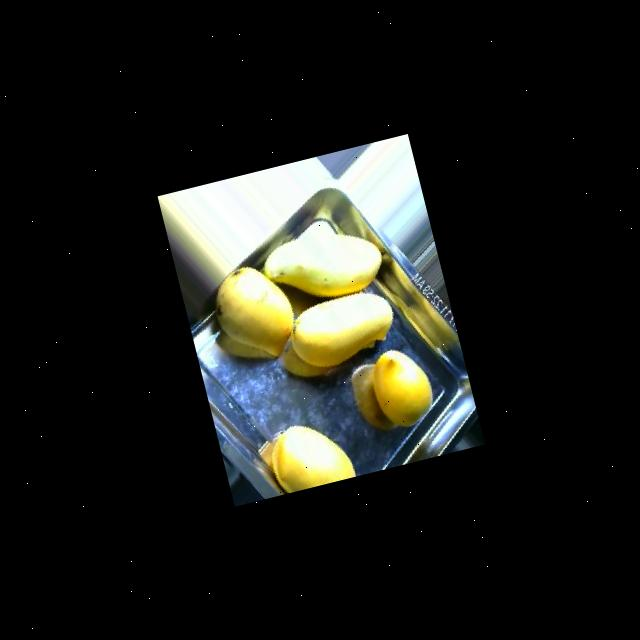Mango: (254, 206, 388, 312), (203, 257, 303, 370), (282, 284, 402, 374), (264, 413, 356, 494), (365, 342, 439, 432)
